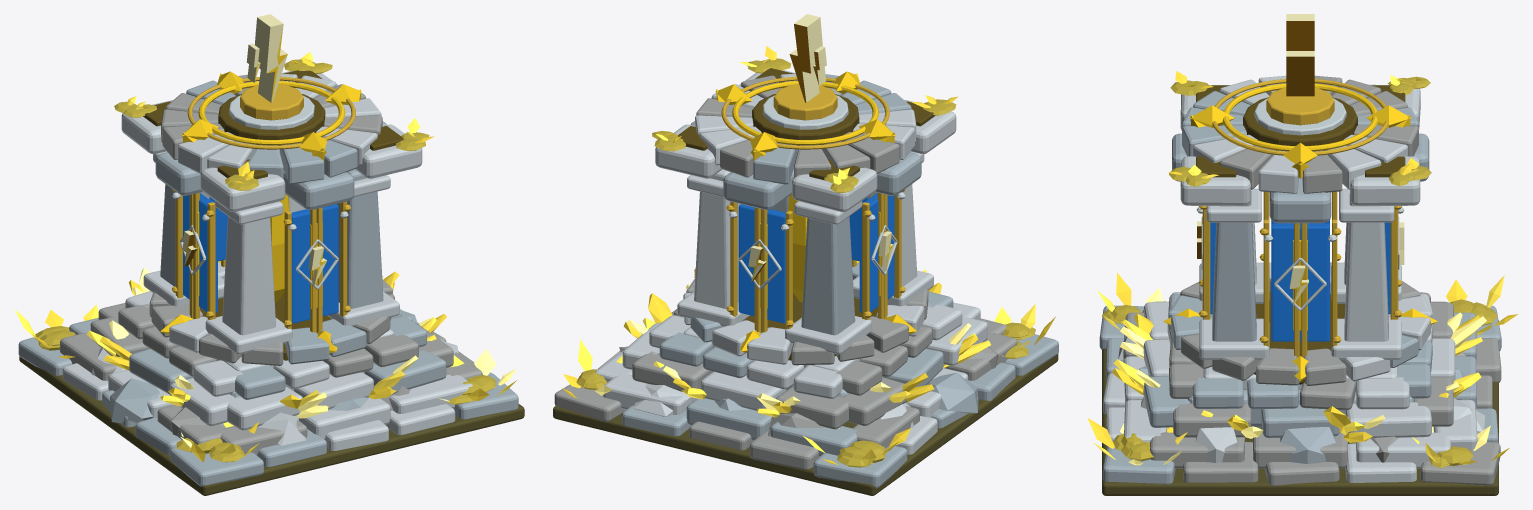
The model's file is lightning.fbx.
The picture shows the model from 3 angles, left to right: view 1: azimuth 30°, elevation 25°; view 2: azimuth 150°, elevation 25°; view 3: azimuth 270°, elevation 25°; orthographic projection. The views are drawn at different scales.
Visible parts, largest first — view 1: Tower_Premium_Lightning_Stonework, Tower_Premium_Lightning_Trim, Tower_Premium_Lightning_Growth, Tower_Premium_Lightning_Core, Tower_Premium_Lightning_Foundation_Rocks, Tower_Premium_Lightning_Outer_Foliage, Tower_Premium_Lightning_Elemental_Gems; view 2: Tower_Premium_Lightning_Stonework, Tower_Premium_Lightning_Trim, Tower_Premium_Lightning_Growth, Tower_Premium_Lightning_Core, Tower_Premium_Lightning_Foundation_Rocks, Tower_Premium_Lightning_Outer_Foliage, Tower_Premium_Lightning_Elemental_Gems; view 3: Tower_Premium_Lightning_Stonework, Tower_Premium_Lightning_Trim, Tower_Premium_Lightning_Growth, Tower_Premium_Lightning_Core, Tower_Premium_Lightning_Outer_Foliage, Tower_Premium_Lightning_Foundation_Rocks, Tower_Premium_Lightning_Elemental_Gems.
Boxes of the visible parts, bbox=[...] form: Tower_Premium_Lightning_Stonework: bbox=[18, 71, 518, 486]; Tower_Premium_Lightning_Trim: bbox=[143, 70, 403, 360]; Tower_Premium_Lightning_Growth: bbox=[15, 52, 524, 495]; Tower_Premium_Lightning_Core: bbox=[160, 71, 383, 353]; Tower_Premium_Lightning_Foundation_Rocks: bbox=[91, 309, 458, 445]; Tower_Premium_Lightning_Outer_Foliage: bbox=[86, 268, 446, 418]; Tower_Premium_Lightning_Elemental_Gems: bbox=[182, 14, 326, 285]; Tower_Premium_Lightning_Stonework: bbox=[554, 70, 1058, 488]; Tower_Premium_Lightning_Trim: bbox=[678, 68, 948, 360]; Tower_Premium_Lightning_Growth: bbox=[553, 46, 1058, 495]; Tower_Premium_Lightning_Core: bbox=[694, 71, 916, 352]; Tower_Premium_Lightning_Foundation_Rocks: bbox=[619, 314, 998, 436]; Tower_Premium_Lightning_Outer_Foliage: bbox=[623, 269, 990, 417]; Tower_Premium_Lightning_Elemental_Gems: bbox=[748, 14, 893, 282]; Tower_Premium_Lightning_Stonework: bbox=[1099, 75, 1501, 485]; Tower_Premium_Lightning_Trim: bbox=[1196, 79, 1412, 384]; Tower_Premium_Lightning_Growth: bbox=[1087, 71, 1518, 495]; Tower_Premium_Lightning_Core: bbox=[1163, 83, 1437, 381]; Tower_Premium_Lightning_Outer_Foliage: bbox=[1112, 312, 1486, 442]; Tower_Premium_Lightning_Foundation_Rocks: bbox=[1118, 336, 1484, 463]; Tower_Premium_Lightning_Elemental_Gems: bbox=[1197, 14, 1404, 304].
Bounding box in the file's own units: 405 × 429 × 425.
